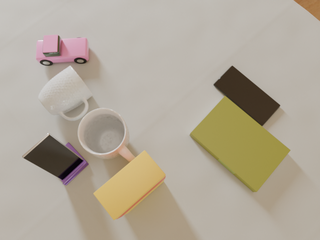book: (190, 96, 290, 192)
box: (94, 150, 166, 220)
cup: (78, 108, 136, 162), (38, 66, 93, 121)
phone: (214, 66, 280, 126), (22, 133, 83, 180)
toy_car: (36, 35, 89, 66)
